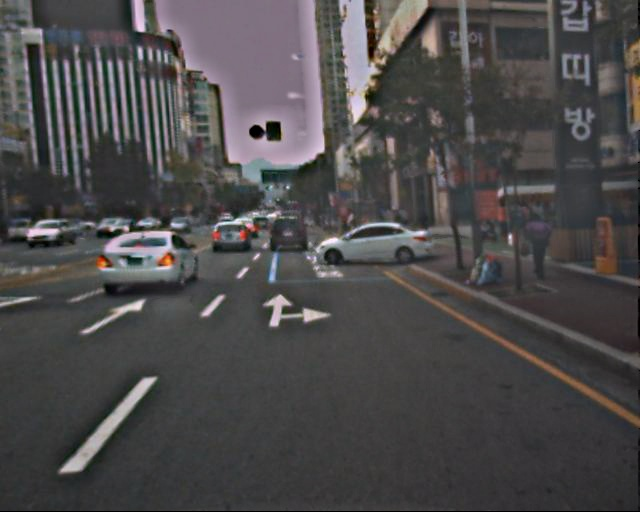person: (523, 211, 552, 281), (507, 198, 532, 258)
